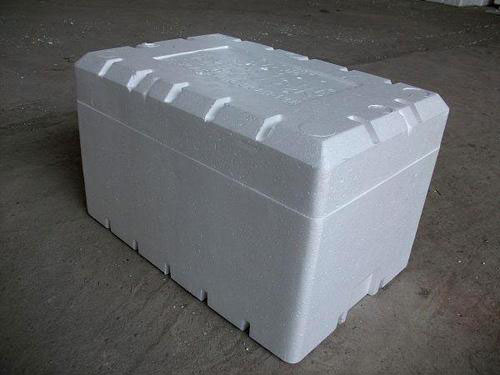Boxes: (76, 34, 448, 363)
